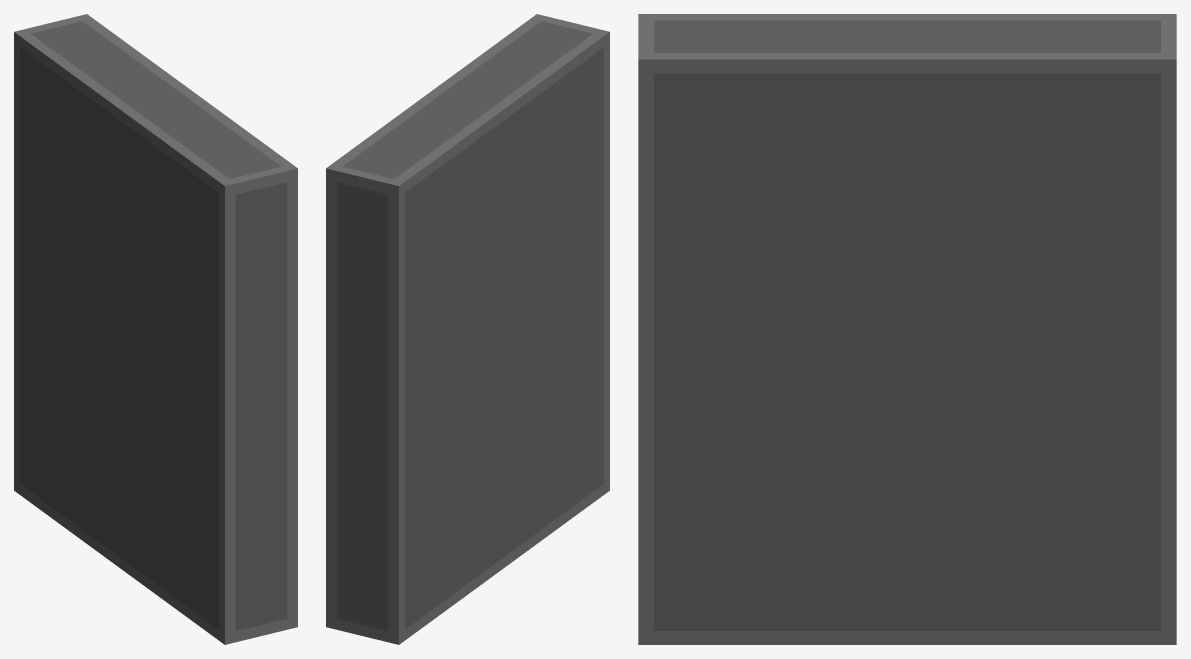
The model's file is Wall_B_1_1.fbx.
The picture shows the model from 3 angles, left to right: view 1: azimuth 30°, elevation 25°; view 2: azimuth 150°, elevation 25°; view 3: azimuth 270°, elevation 25°; orthographic projection. The views are drawn at different scales.
Visible parts, largest first — view 1: Wall_B_1_1; view 2: Wall_B_1_1; view 3: Wall_B_1_1.
Part boxes in pixels (x1,y1,x2,y2): Wall_B_1_1: [14, 14, 297, 644]; Wall_B_1_1: [326, 14, 609, 644]; Wall_B_1_1: [638, 14, 1176, 644].
Bounding box in the file's own units: 40 × 240 × 200.
